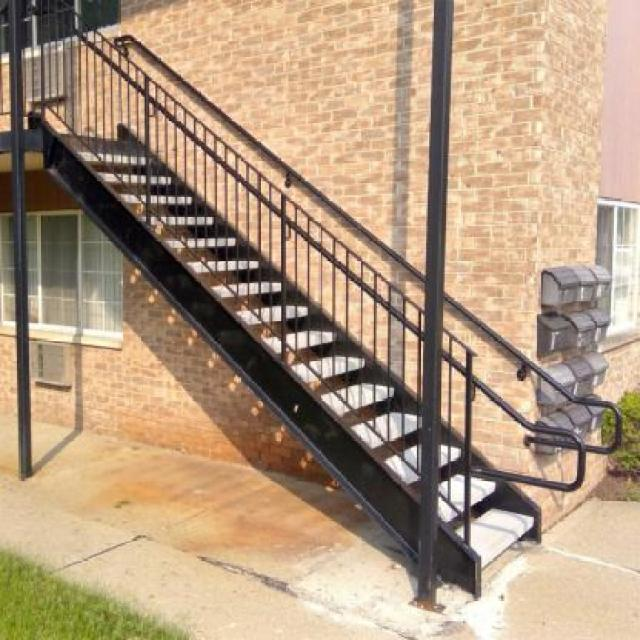stair: (48, 66, 606, 589)
